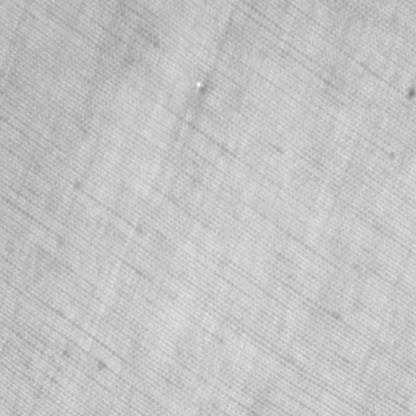hole: (190, 74, 207, 96)
